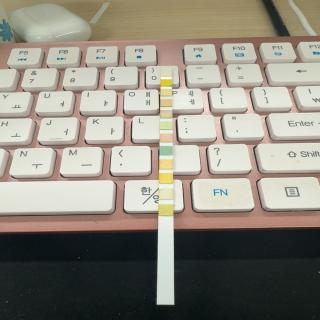mark: (158, 188, 173, 200), (159, 204, 173, 216), (160, 146, 173, 156), (160, 159, 173, 169), (160, 173, 173, 183), (160, 110, 173, 118), (160, 134, 173, 142), (160, 122, 172, 130), (161, 79, 172, 87), (160, 90, 172, 96), (160, 100, 172, 106), (161, 70, 171, 76)
